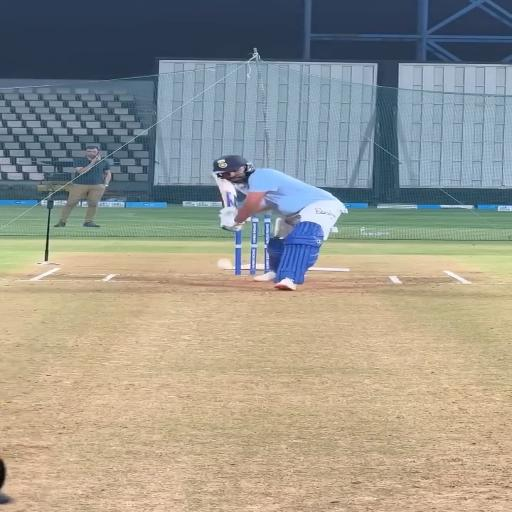Cricket bat: (215, 176, 235, 208)
